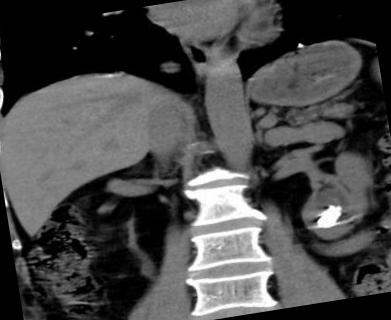Tas_Var: (312, 199, 349, 231)
